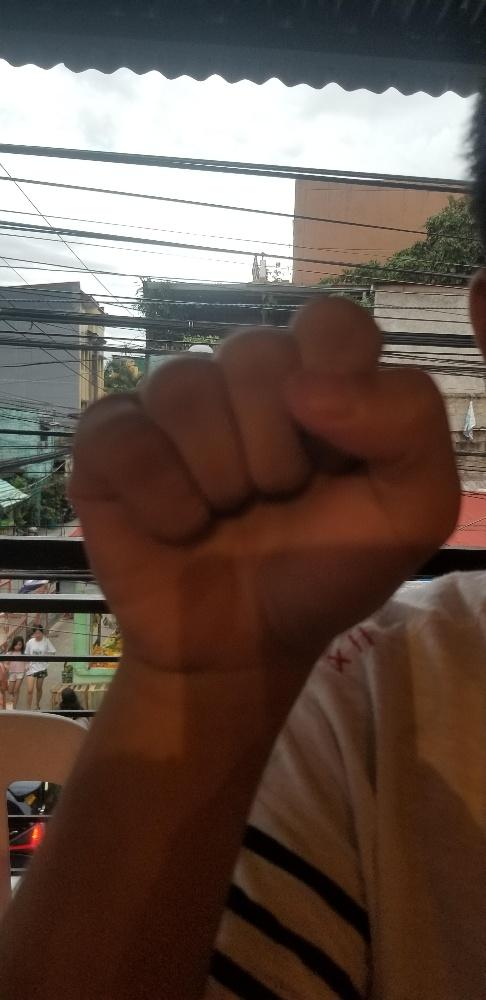s: (68, 296, 463, 663)
